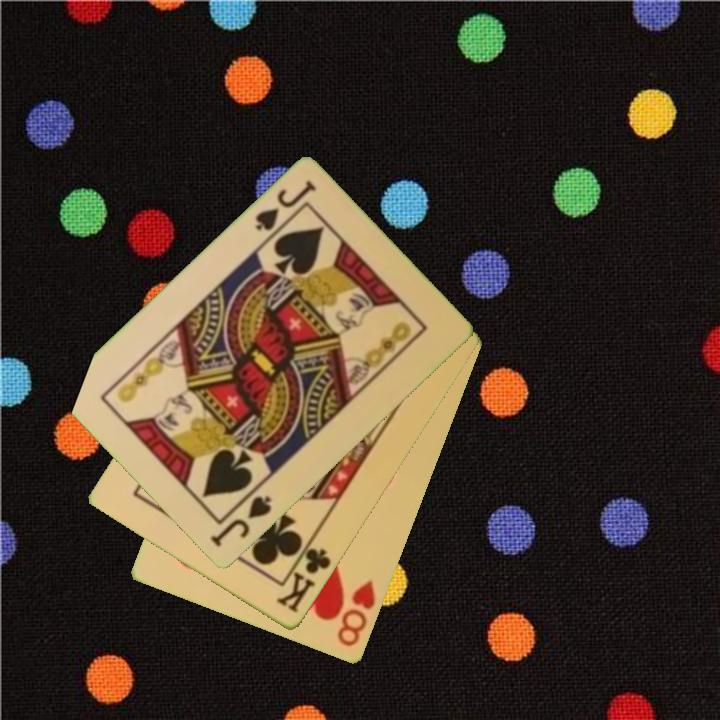8h: (334, 577, 379, 650)
Js: (206, 492, 275, 550), (252, 177, 319, 235)
Kc: (273, 535, 334, 617)
